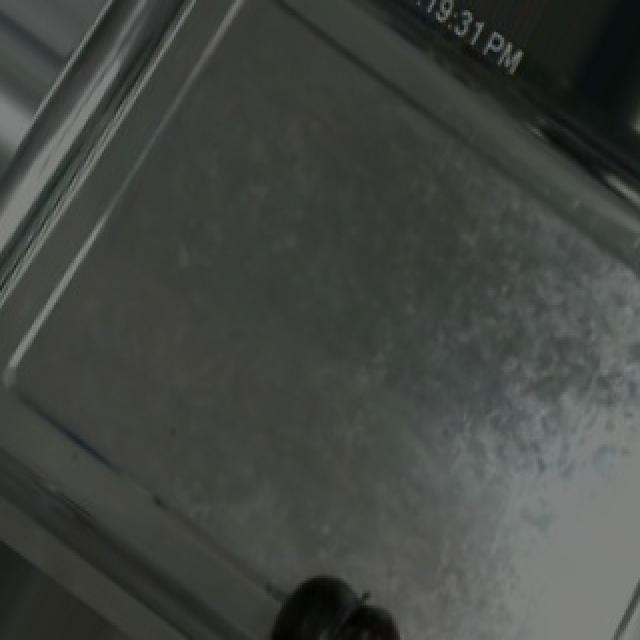Fruit: (254, 563, 424, 640)
